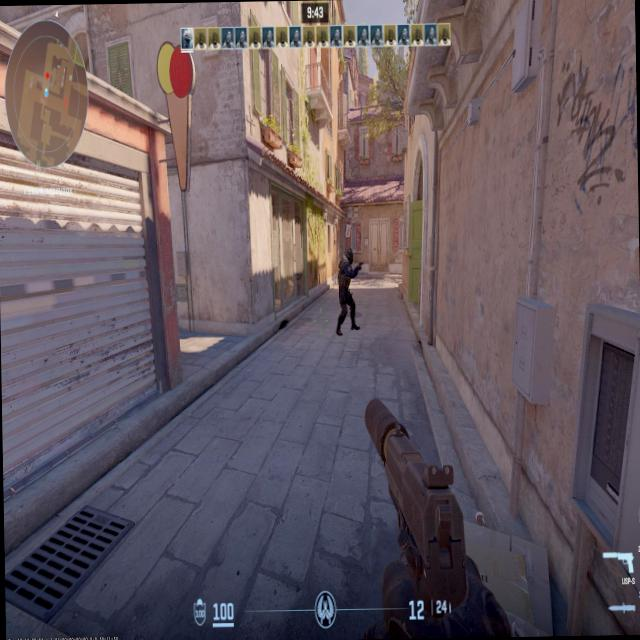CT: (334, 246, 356, 329)
CT_heat: (344, 248, 350, 266)
